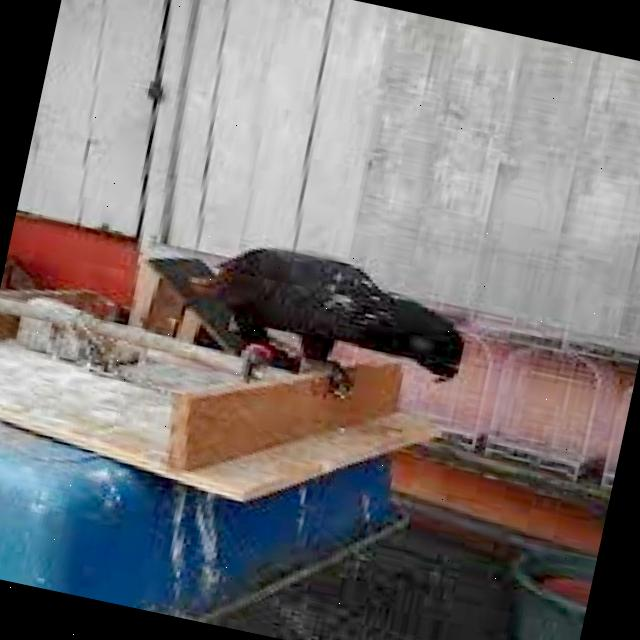Nuri Hitam: (147, 198, 493, 426)
